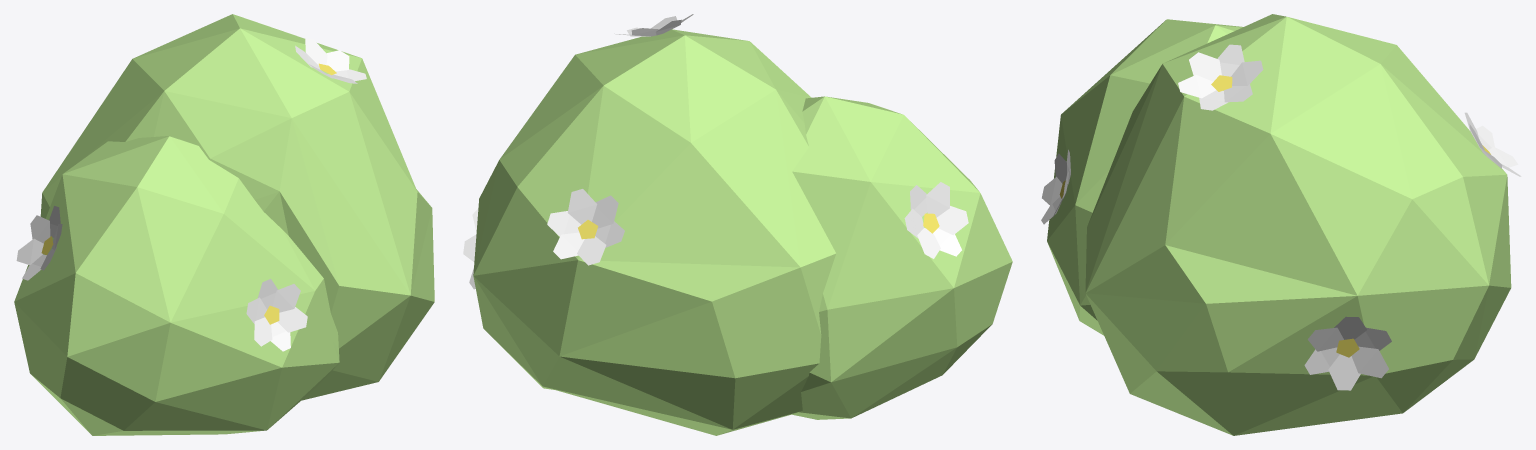
The model's file is FlowerBush_c_m_02.fbx.
3 renders of one model, left to right at view 1: azimuth 30°, elevation 25°; view 2: azimuth 150°, elevation 25°; view 3: azimuth 270°, elevation 25°, orthographic. The views are drawn at different scales.
Visible parts, largest first — view 1: FlowerBush_c_m_02; view 2: FlowerBush_c_m_02; view 3: FlowerBush_c_m_02.
Boxes of the visible parts, x1=… form: FlowerBush_c_m_02: x1=14, y1=14, x2=434, y2=435; FlowerBush_c_m_02: x1=463, y1=14, x2=1012, y2=435; FlowerBush_c_m_02: x1=1041, y1=14, x2=1521, y2=435.
Size of the model in its own units: 172 by 140 by 157.
